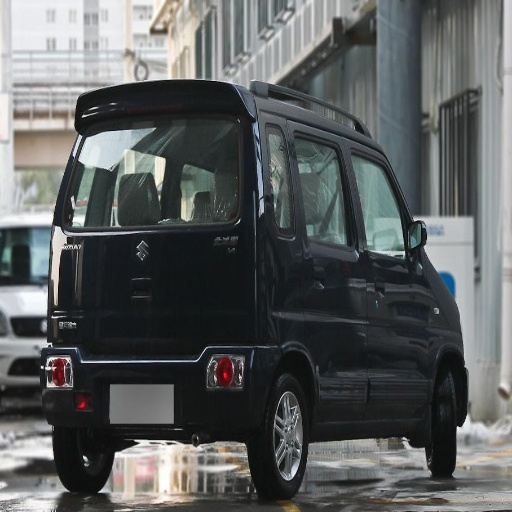back_bumper: (115, 385, 161, 419)
trunk: (64, 232, 306, 421)
